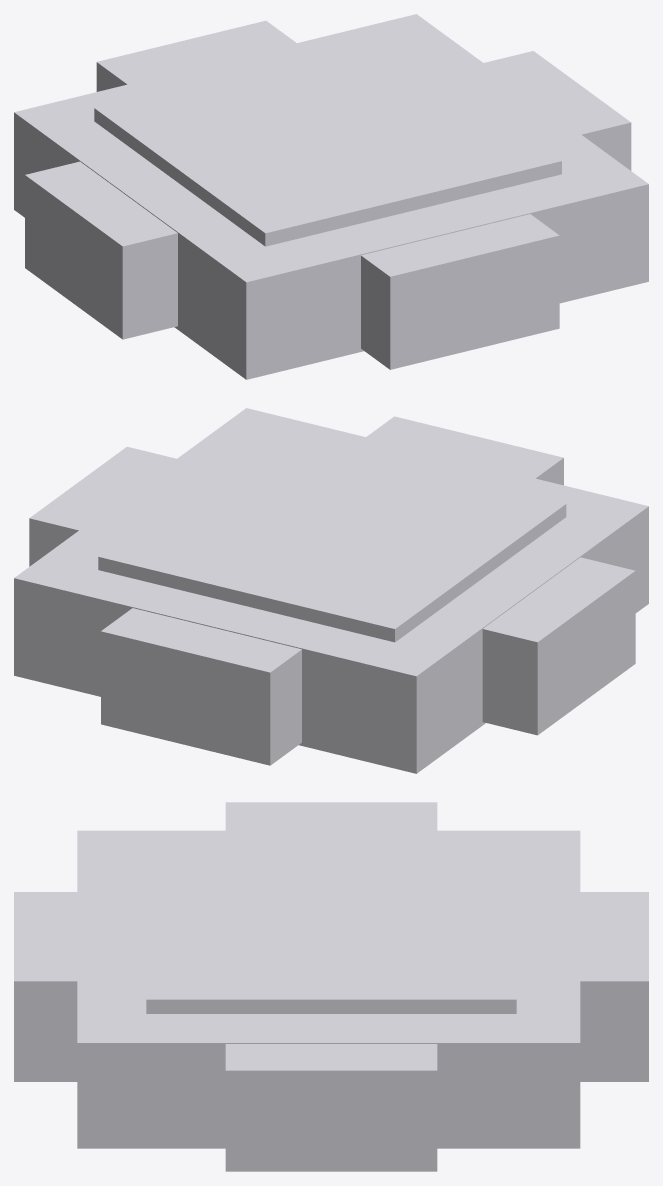
The model's file is VoxelWheel.obj.
3 views of the same model, one above another, from view 1: azimuth 30°, elevation 25°; view 2: azimuth 150°, elevation 25°; view 3: azimuth 270°, elevation 25° (orthographic). The views are drawn at different scales.
Visible parts, largest first — view 1: cube; view 2: cube; view 3: cube.
Part boxes in pixels (x1,y1,x2,y2): cube: (14,14,648,379); cube: (14,408,648,773); cube: (14,802,648,1171).
Size of the model in its own units: 0.375 by 0.0875 by 0.375.
